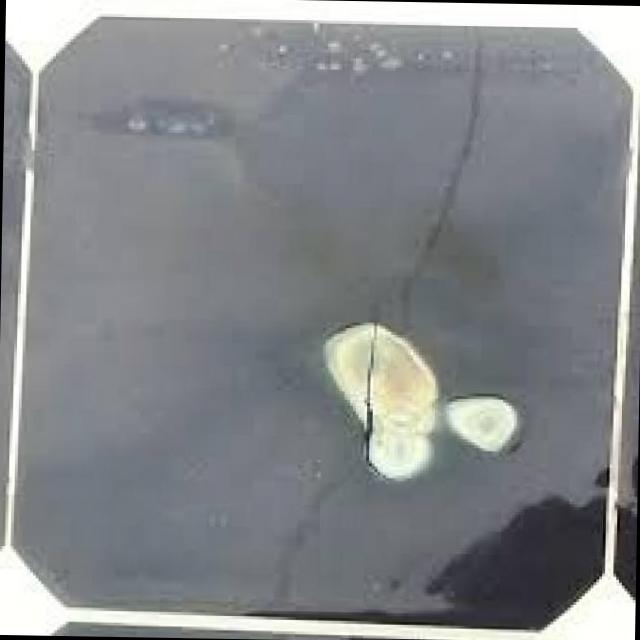faulty: (34, 35, 615, 590)
